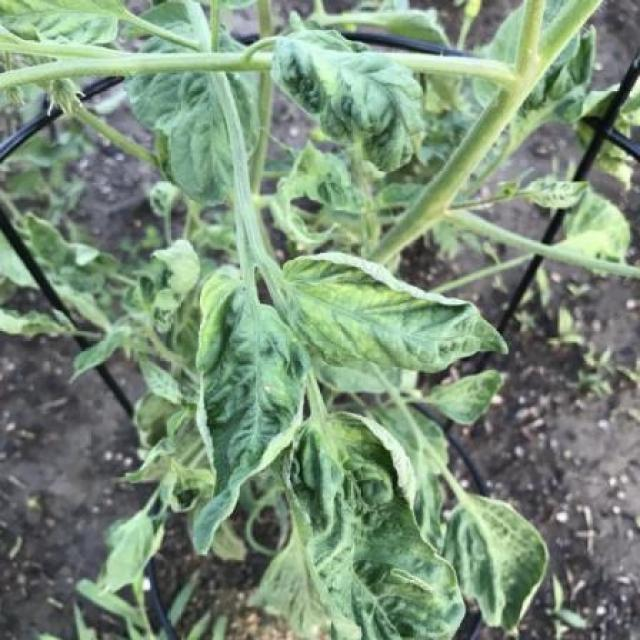Mosaic Virus: (193, 260, 307, 560), (278, 248, 512, 373), (263, 21, 428, 172)
